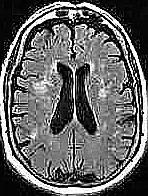Normal_Brain: (1, 2, 148, 196)
